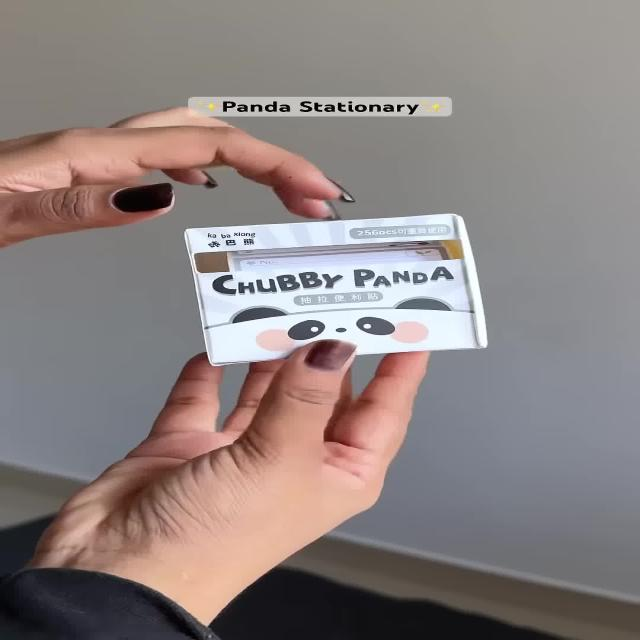book: (133, 197, 554, 375)
